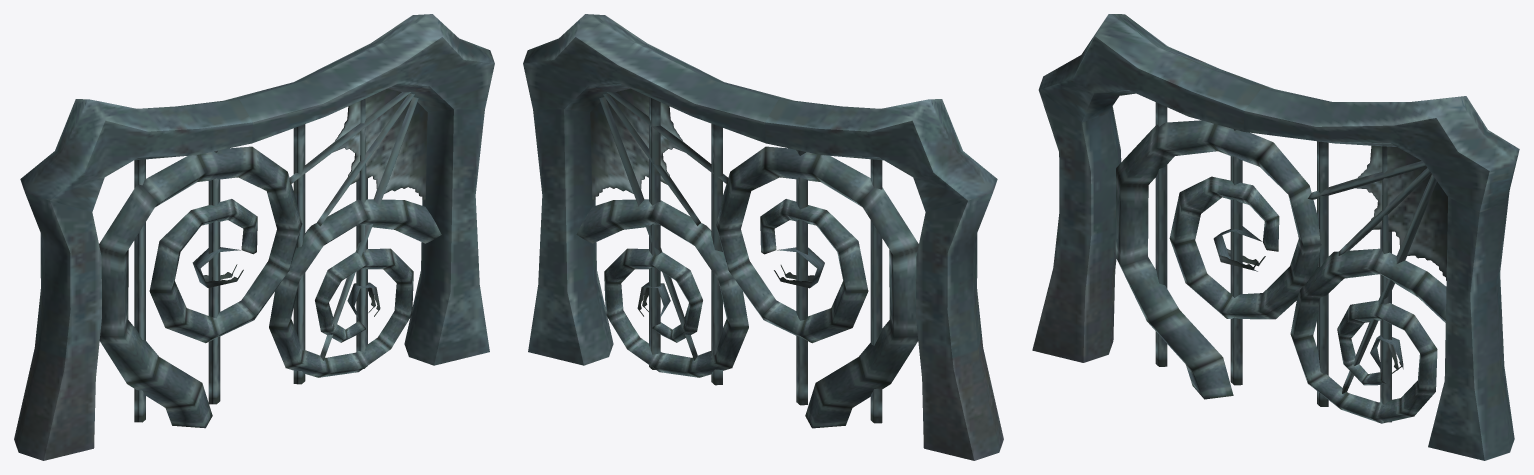
File: s_bura_saku.dae
The picture shows the model from 3 angles, left to right: view 1: azimuth 30°, elevation 25°; view 2: azimuth 150°, elevation 25°; view 3: azimuth 330°, elevation 25°; orthographic projection.
Parts seen in each view (by area): view 1: Shape 0; view 2: Shape 0; view 3: Shape 0.
Boxes of the visible parts, <box> form: Shape 0: <box>14,14,494,460</box>; Shape 0: <box>523,14,1003,460</box>; Shape 0: <box>1032,14,1519,460</box>.
Size of the model in its own units: 460 by 324 by 50.
Materials: 1 (1 with a texture image).
